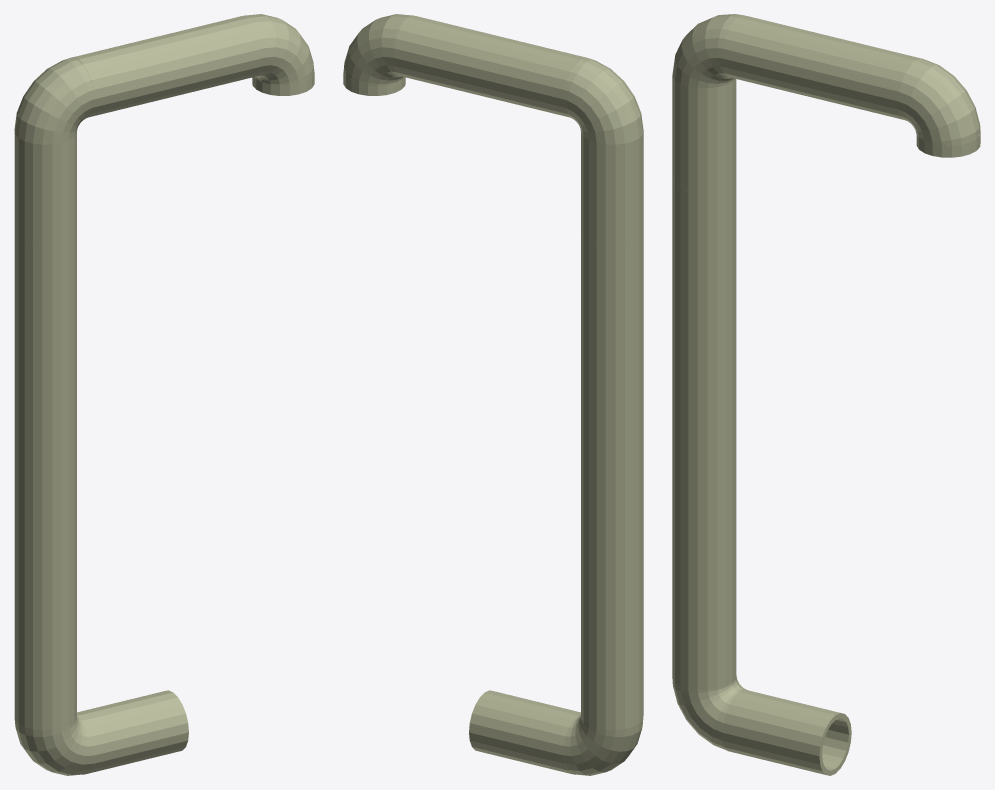
Rendered from pipe.obj.
3 views of the same model, side by side, from view 1: azimuth 30°, elevation 25°; view 2: azimuth 150°, elevation 25°; view 3: azimuth 330°, elevation 25° (orthographic). The views are drawn at different scales.
Parts seen in each view (by area): view 1: obj_0; view 2: obj_0; view 3: obj_0.
Boxes of the visible parts, box(x1,y1,x2,y2) form: obj_0: box(14, 14, 314, 775); obj_0: box(343, 14, 643, 775); obj_0: box(672, 14, 980, 775).
Size of the model in its own units: 64.5 by 150 by 12.
